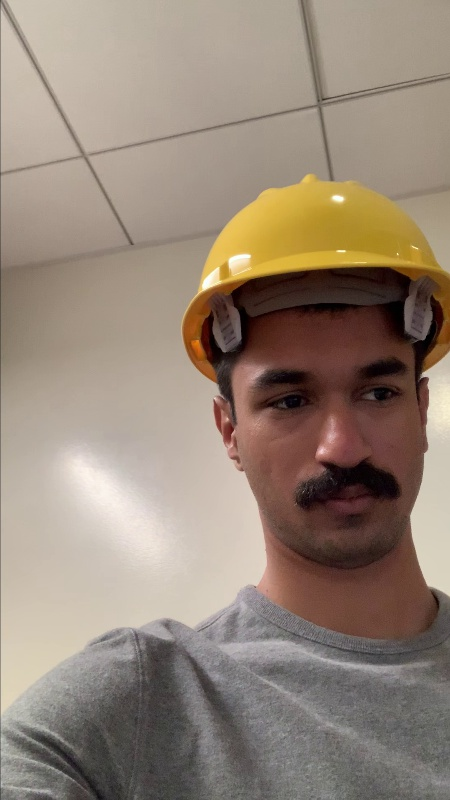helmet: (180, 175, 450, 291)
